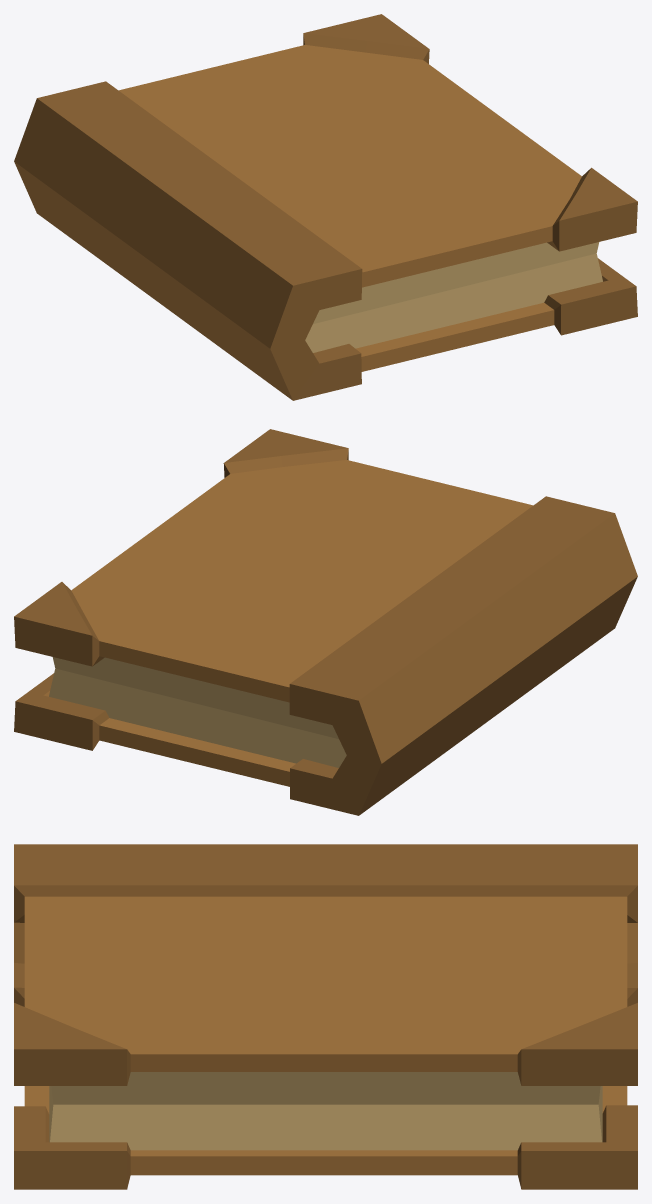
Rendered from book.fbx.
3 renders of one model, top to bottom at view 1: azimuth 30°, elevation 25°; view 2: azimuth 150°, elevation 25°; view 3: azimuth 270°, elevation 25°, orthographic. The views are drawn at different scales.
Visible parts, largest first — view 1: book; view 2: book; view 3: book.
Boxes of the visible parts, <box> form: book: <box>14,14,637,400</box>; book: <box>14,429,637,815</box>; book: <box>14,844,637,1189</box>.
Bounding box in the file's own units: 39.41 × 11.81 × 47.57.
